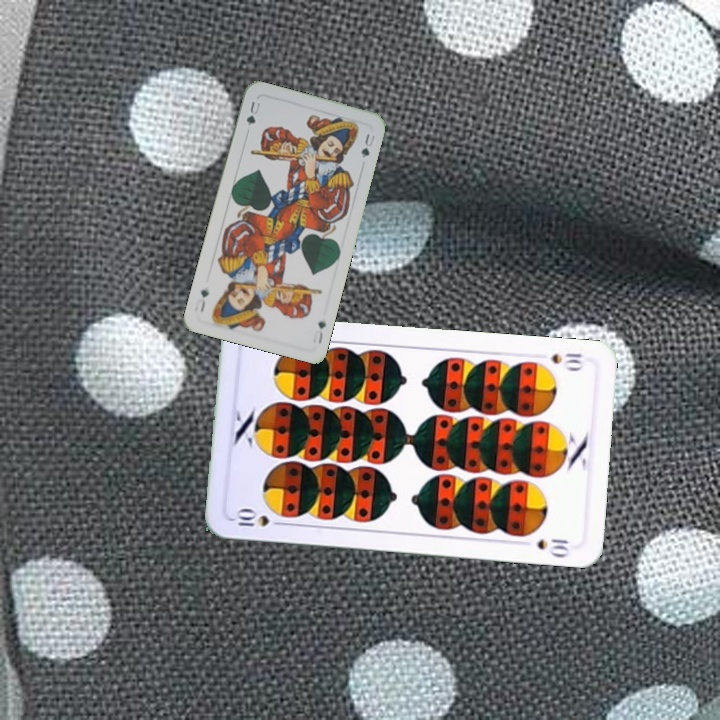GU: (242, 97, 263, 128), (309, 317, 329, 347)
S10: (232, 507, 288, 529), (546, 349, 585, 373)
